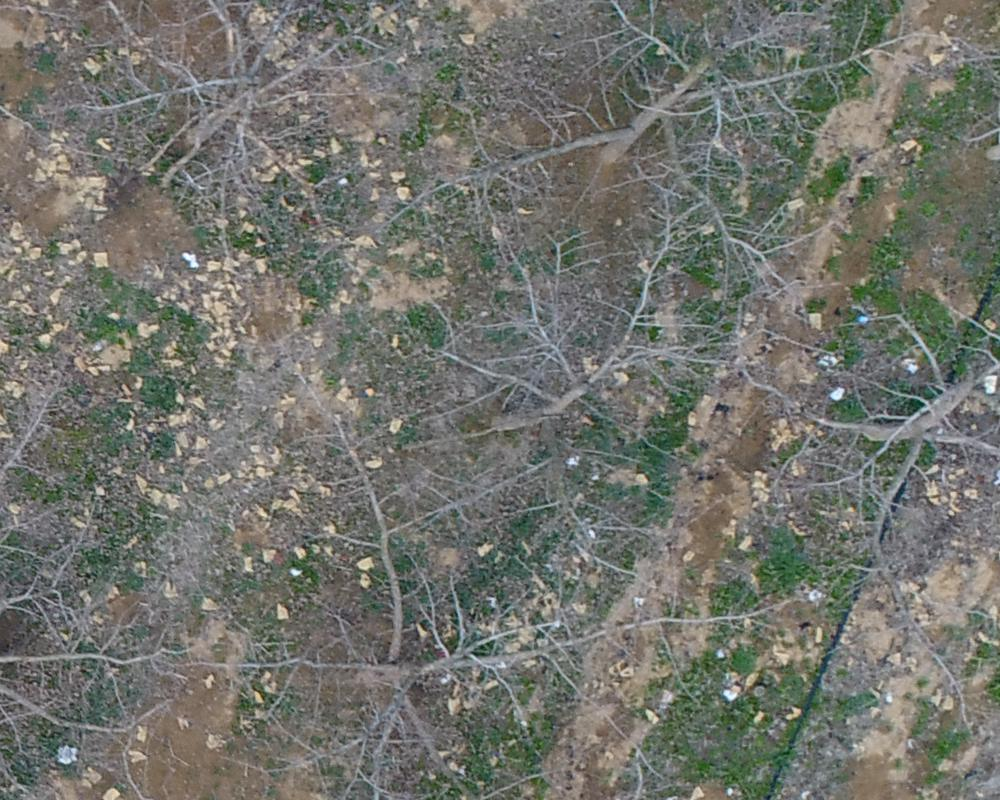apple: (178, 418, 824, 790), (395, 10, 932, 279), (21, 10, 442, 279), (748, 285, 990, 716), (375, 228, 775, 472), (10, 364, 206, 790)
